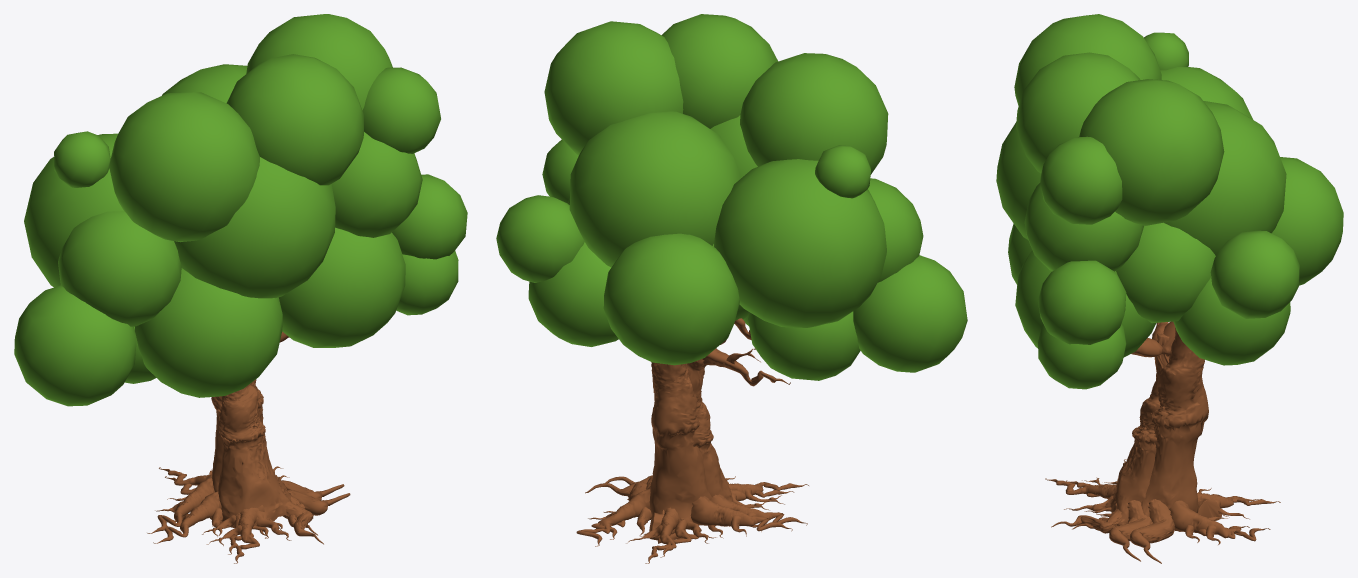
Rendered from m_tree_prop_asser.fbx.
The picture shows the model from 3 angles, left to right: view 1: azimuth 30°, elevation 25°; view 2: azimuth 150°, elevation 25°; view 3: azimuth 270°, elevation 25°; orthographic projection. The views are drawn at different scales.
Visible parts, largest first — view 1: NurbsPath.005, NurbsPath.001; view 2: NurbsPath.005, NurbsPath.001; view 3: NurbsPath.005, NurbsPath.001.
Part boxes in pixels (left/top/right/bottom): NurbsPath.005: left=14, top=14, right=467, bottom=563; NurbsPath.001: left=147, top=379, right=344, bottom=554; NurbsPath.005: left=496, top=14, right=967, bottom=557; NurbsPath.001: left=576, top=318, right=794, bottom=563; NurbsPath.005: left=996, top=14, right=1343, bottom=561; NurbsPath.001: left=1066, top=327, right=1280, bottom=563.
Size of the model in its own units: 76.04 by 83.14 by 54.61.
